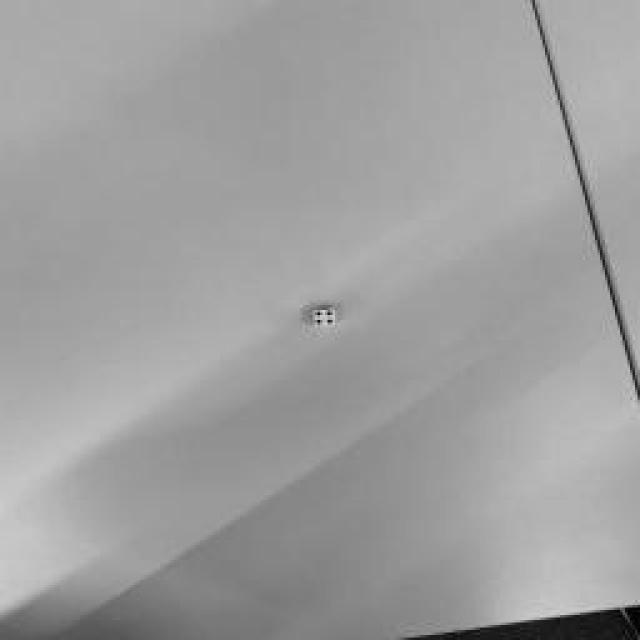dice_4: (314, 309, 336, 326)
